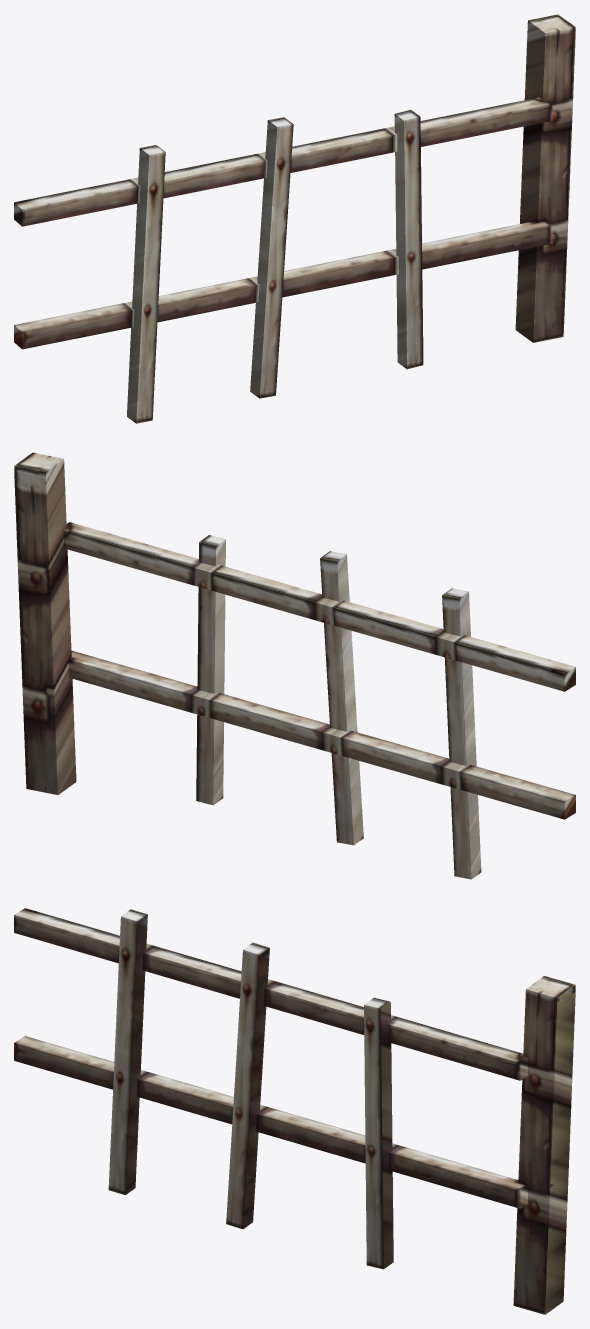
The model's file is fence_19.glb.
3 views of the same model, one above another, from view 1: azimuth 30°, elevation 25°; view 2: azimuth 150°, elevation 25°; view 3: azimuth 330°, elevation 25° (orthographic). The views are drawn at different scales.
Visible parts, largest first — view 1: fence_19_game; view 2: fence_19_game; view 3: fence_19_game.
Part boxes in pixels (box(x1,y1,x2,y2)): fence_19_game: box(14, 14, 575, 423); fence_19_game: box(14, 452, 575, 879); fence_19_game: box(14, 908, 575, 1314).
Bounding box in the file's own units: 2.29 × 1.26 × 0.2411.
1 material, 1 textured.
